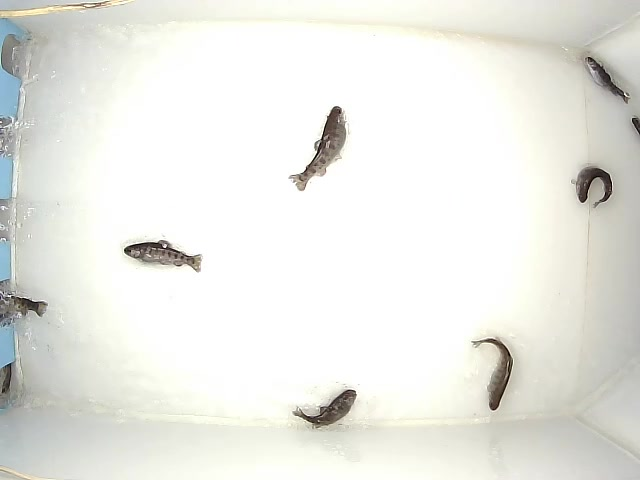fish: (287, 105, 347, 193), (470, 336, 514, 412), (122, 239, 203, 274), (291, 388, 358, 430), (585, 56, 631, 104), (570, 165, 614, 210)
